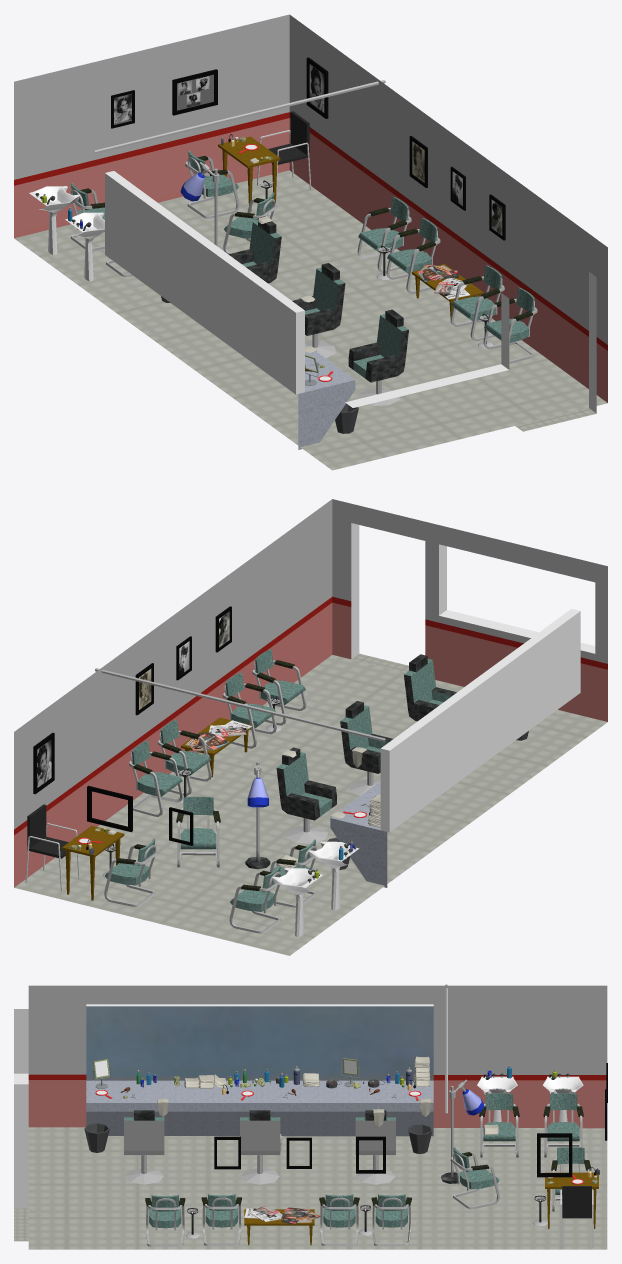
The model's file is Salon_OLD.glb.
3 views of the same model, one above another, from view 1: azimuth 30°, elevation 25°; view 2: azimuth 150°, elevation 25°; view 3: azimuth 270°, elevation 25° (orthographic). The views are drawn at different scales.
Parts seen in each view (by area): view 1: polySurface6 salon salon polySurface26, polySurface6 salon salon polySurface25, polySurface6 salon salon polySurface8, polySurface6 salon salon polySurface20, polySurface6 salon salon polySurface15, polySurface6 salon salon polySurface10, chair, chair2, salon group4 pictureFrame5, chair7, chair1, chair6 (+13 smaller); view 2: polySurface6 salon salon polySurface26, polySurface6 salon salon polySurface25, polySurface6 salon salon polySurface8, polySurface6 salon salon polySurface10, polySurface6 salon salon polySurface15, chair7, polySurface6 salon salon polySurface20, chair5, chair6, group2 chair4, chair1, chair (+14 smaller); view 3: polySurface6 salon salon polySurface26, polySurface6 salon salon polySurface25, polySurface6 salon salon polySurface8, polySurface6 salon salon polySurface20, polySurface6 salon salon polySurface15, group2 chair3, group2 chair4, chair, chair7, chair5, chair1, chair2 (+17 smaller).
Boxes of the visible parts, left/top/right/bottom form: polySurface6 salon salon polySurface26: left=14, top=14, right=607, bottom=470; polySurface6 salon salon polySurface25: left=105, top=171, right=304, bottom=394; polySurface6 salon salon polySurface8: left=298, top=343, right=355, bottom=449; polySurface6 salon salon polySurface20: left=348, top=309, right=408, bottom=382; polySurface6 salon salon polySurface15: left=292, top=263, right=345, bottom=335; polySurface6 salon salon polySurface10: left=228, top=216, right=281, bottom=283; chair: left=386, top=218, right=440, bottom=293; chair2: left=450, top=265, right=504, bottom=341; salon group4 pictureFrame5: left=172, top=69, right=217, bottom=115; chair7: left=357, top=197, right=411, bottom=272; chair1: left=483, top=287, right=537, bottom=363; chair6: left=185, top=150, right=239, bottom=218; polySurface6 salon salon polySurface26: left=14, top=499, right=607, bottom=955; polySurface6 salon salon polySurface25: left=380, top=608, right=580, bottom=832; polySurface6 salon salon polySurface8: left=330, top=781, right=387, bottom=887; polySurface6 salon salon polySurface10: left=276, top=747, right=336, bottom=820; polySurface6 salon salon polySurface15: left=340, top=701, right=392, bottom=773; chair7: left=129, top=741, right=182, bottom=816; polySurface6 salon salon polySurface20: left=404, top=654, right=456, bottom=721; chair5: left=176, top=796, right=220, bottom=867; chair6: left=104, top=838, right=158, bottom=907; group2 chair4: left=229, top=865, right=281, bottom=933; chair1: left=252, top=649, right=306, bottom=725; chair: left=157, top=719, right=211, bottom=795; polySurface6 salon salon polySurface26: left=14, top=985, right=607, bottom=1249; polySurface6 salon salon polySurface25: left=86, top=1004, right=433, bottom=1080; polySurface6 salon salon polySurface8: left=86, top=1080, right=433, bottom=1136; polySurface6 salon salon polySurface20: left=124, top=1110, right=164, bottom=1155; polySurface6 salon salon polySurface15: left=240, top=1110, right=280, bottom=1155; group2 chair3: left=479, top=1093, right=519, bottom=1157; group2 chair4: left=543, top=1093, right=583, bottom=1157; chair: left=319, top=1194, right=359, bottom=1246; chair7: left=371, top=1194, right=411, bottom=1246; chair5: left=450, top=1147, right=499, bottom=1209; chair1: left=145, top=1195, right=185, bottom=1246; chair2: left=201, top=1194, right=241, bottom=1245.
Size of the model in its own units: 526 by 276 by 1026.
5 materials, 3 textured.
